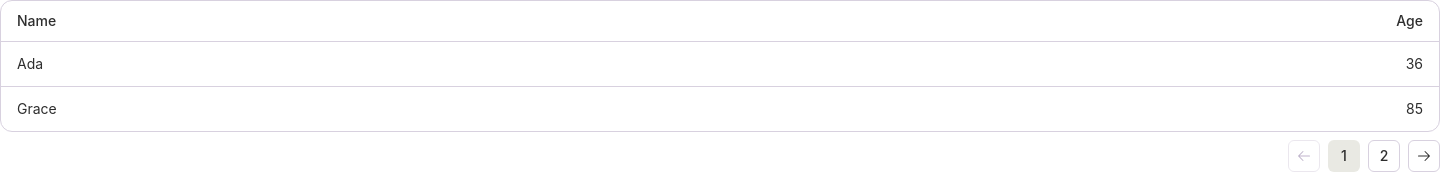
Test: DataTable › paginates and hides the pagination bar when everything fits
Expected: the text "Ada" is shown, [1, 42, 792, 86]
Expected: the text "Linus" is not shown
Click the button named "Next page" at (1424, 156), box [1408, 140, 1440, 172]
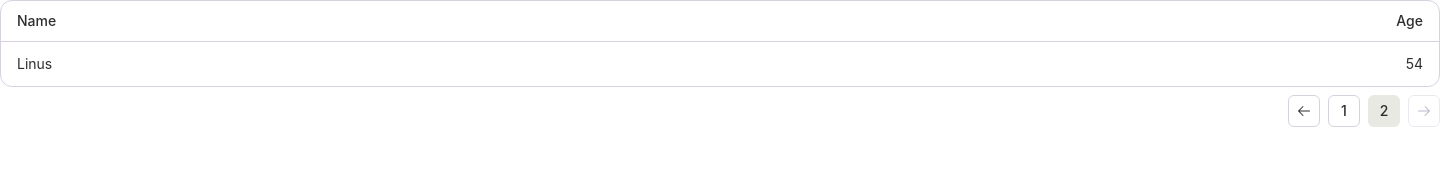
Now the text "Linus" is shown, box [1, 42, 789, 86]
